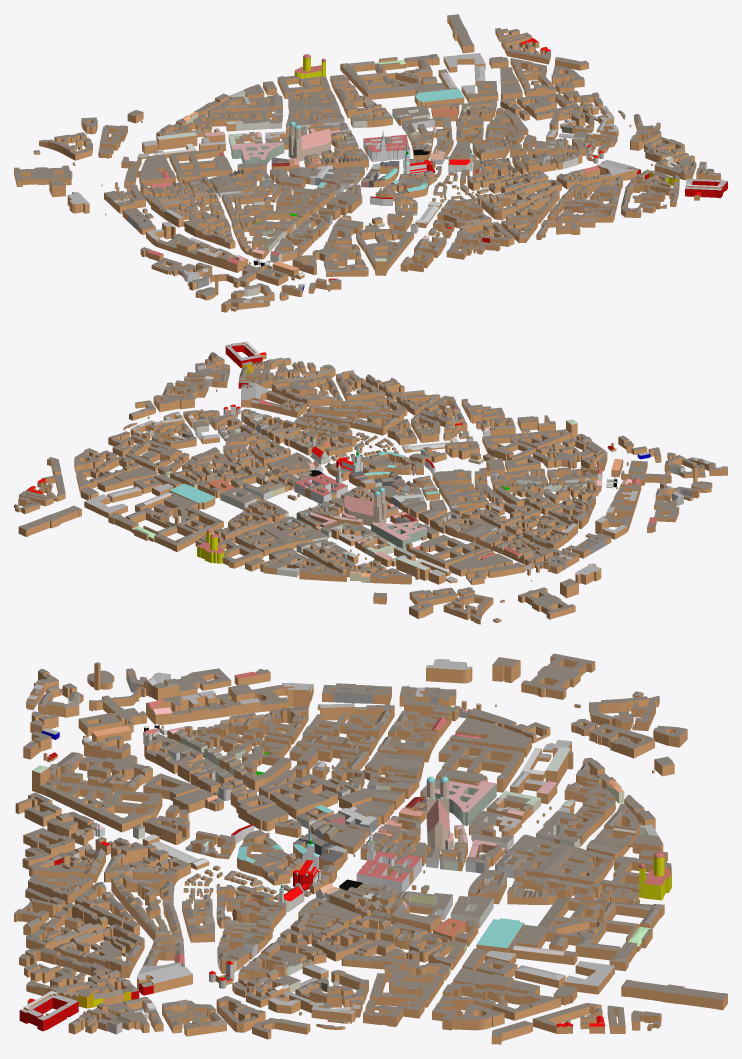
Rendered from munich-transformed.glb.
3 renders of one model, top to bottom at view 1: azimuth 30°, elevation 25°; view 2: azimuth 150°, elevation 25°; view 3: azimuth 270°, elevation 25°, orthographic. The views are drawn at different scales.
Visible parts, largest first — view 1: map_2.osm_buildings; view 2: map_2.osm_buildings; view 3: map_2.osm_buildings.
Part boxes in pixels (bbox=[...]): map_2.osm_buildings: bbox=[14, 14, 727, 312]; map_2.osm_buildings: bbox=[14, 341, 727, 624]; map_2.osm_buildings: bbox=[14, 653, 727, 1044].
Bounding box in the file's own units: 1610 × 98.57 × 1270.
